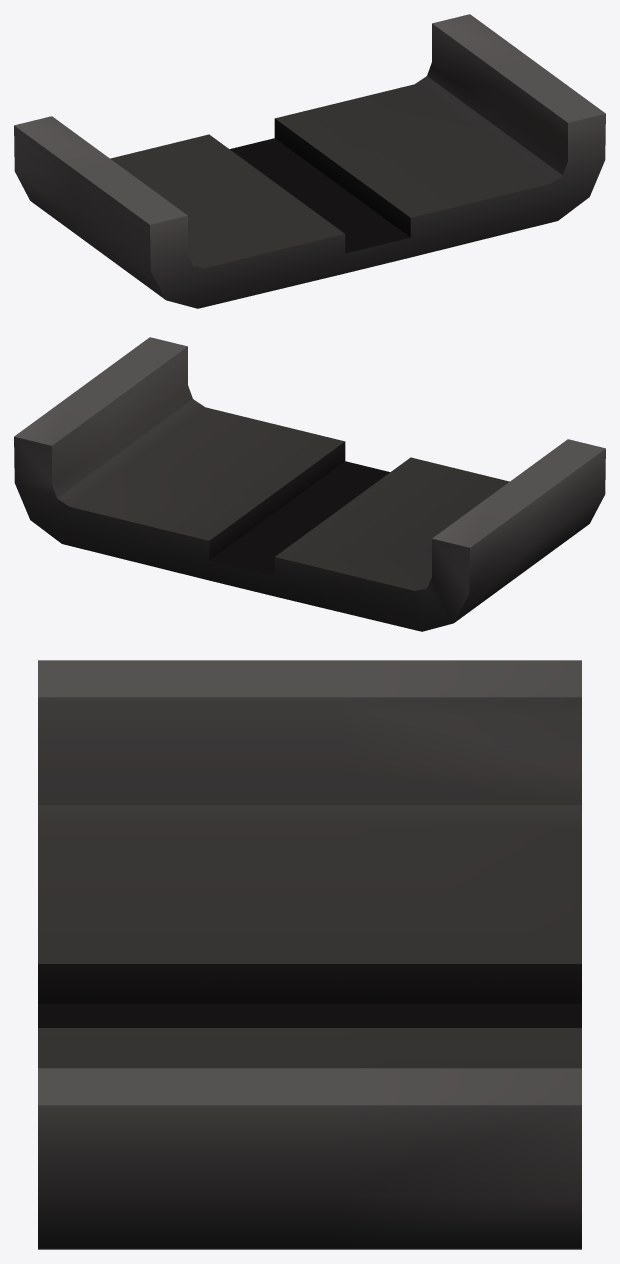
Rendered from MovingWallPlatform.fbx.
The picture shows the model from 3 angles, top to bottom: view 1: azimuth 30°, elevation 25°; view 2: azimuth 150°, elevation 25°; view 3: azimuth 270°, elevation 25°; orthographic projection. The views are drawn at different scales.
Parts seen in each view (by area): view 1: MovingWallPlatform; view 2: MovingWallPlatform; view 3: MovingWallPlatform.
Boxes of the visible parts, x1,y1,x2,y2 form: MovingWallPlatform: [14, 14, 605, 308]; MovingWallPlatform: [14, 337, 605, 631]; MovingWallPlatform: [38, 660, 581, 1249].
Size of the model in its own units: 240 by 48.41 by 124.
